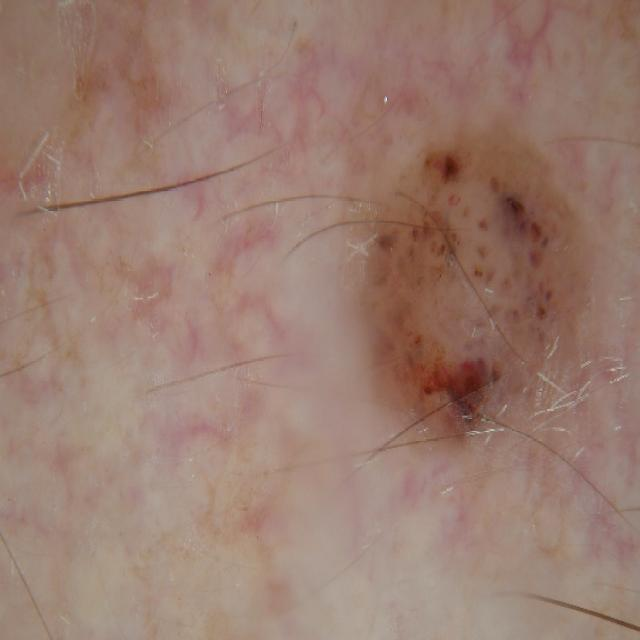Melanoma: (334, 137, 633, 466)
